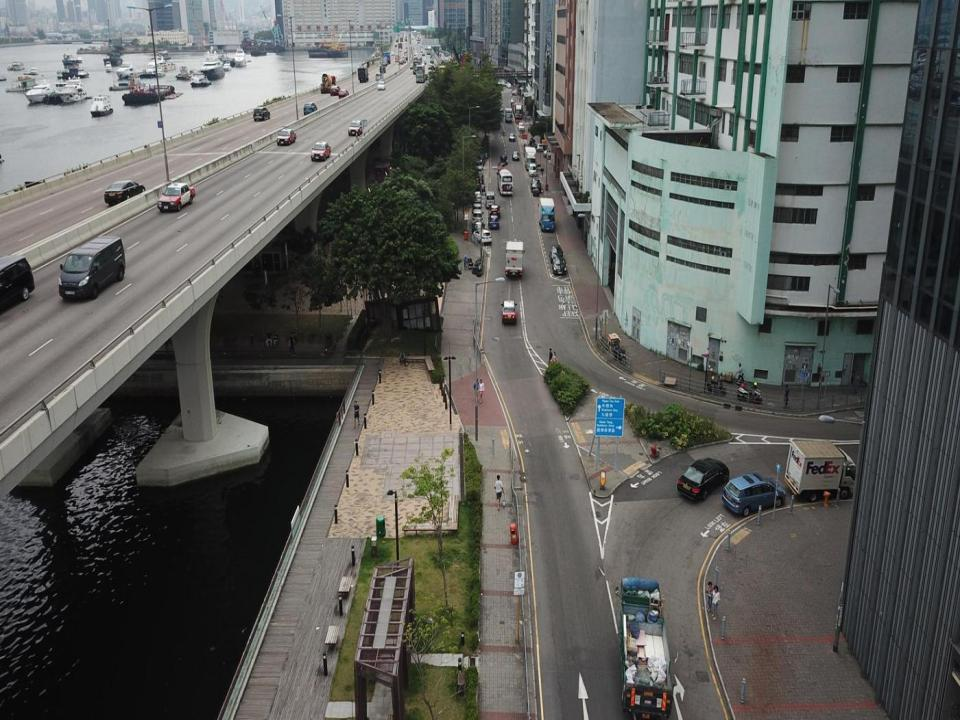bus: (496, 168, 513, 197), (413, 56, 422, 74), (394, 53, 400, 62)
car: (720, 472, 786, 516), (677, 457, 730, 504), (157, 182, 195, 211), (104, 179, 146, 205), (500, 299, 518, 325), (310, 141, 332, 161), (276, 128, 297, 146), (473, 227, 492, 246), (552, 254, 566, 276), (253, 106, 271, 121), (471, 206, 484, 226), (470, 219, 486, 235), (347, 119, 363, 135), (550, 243, 562, 262), (529, 176, 542, 193), (304, 101, 318, 116), (484, 190, 496, 207), (487, 213, 499, 229), (528, 160, 537, 178), (337, 88, 350, 100), (489, 204, 500, 217), (330, 84, 341, 95), (472, 201, 480, 216), (536, 142, 547, 152), (499, 154, 508, 166), (377, 80, 386, 90), (512, 150, 520, 161), (498, 162, 506, 172), (508, 132, 516, 142), (374, 72, 382, 82), (379, 65, 386, 74), (518, 121, 524, 130), (398, 59, 404, 65), (402, 56, 406, 63)
truck: (614, 576, 675, 719), (784, 437, 859, 500), (504, 238, 525, 278), (537, 195, 556, 232), (320, 72, 338, 93), (524, 145, 537, 170), (357, 67, 370, 82), (416, 63, 425, 83), (503, 106, 513, 123), (514, 104, 522, 118), (380, 53, 387, 65)
van: (58, 235, 126, 301), (0, 255, 35, 314)
